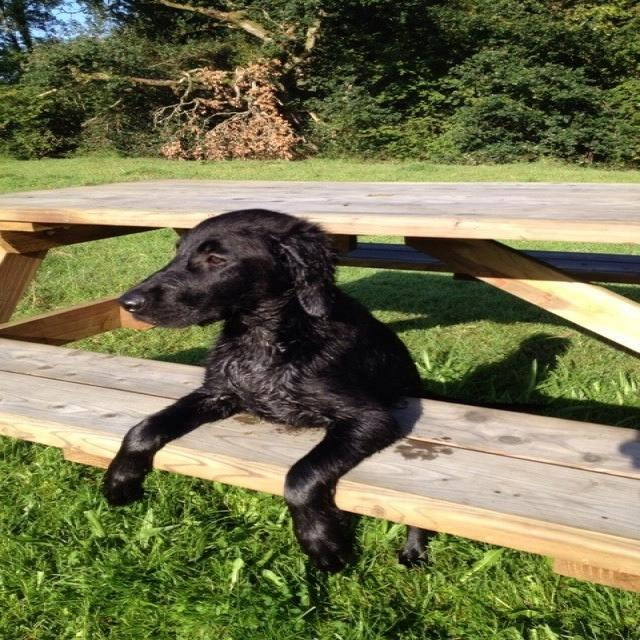dog: (84, 199, 439, 576)
